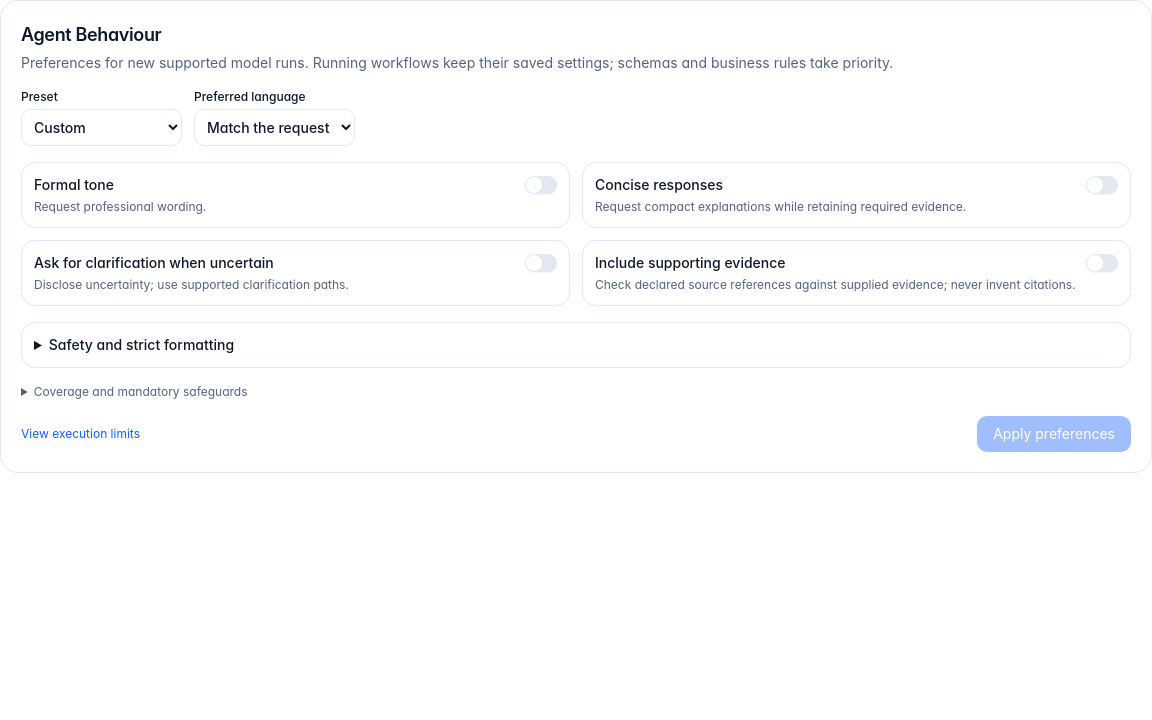
it: loads server preferences, exposes restored controls and ignores browser-only flags
expect the switch named "Formal tone" is enabled: met, box x1=525 y1=176 x2=557 y2=194
expect the dropdown labelled "Preferred language" shows "Match the request": met, box x1=194 y1=109 x2=355 y2=146
What coordinates should you click on to do the following:
click the heading "Safety and strict formatting"
I would click on:
 (141, 344)
Its box is x1=49 y1=336 x2=234 y2=353.
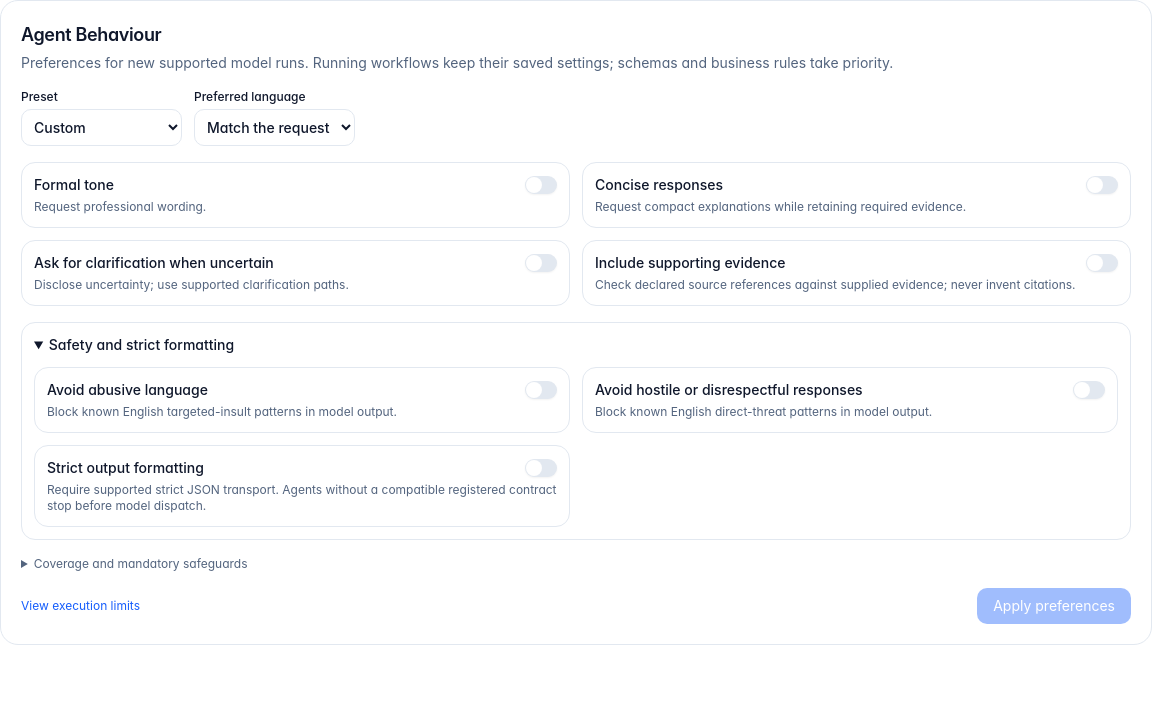
expect the switch named "Strict output formatting" is not checked: met, box x1=525 y1=459 x2=557 y2=477
